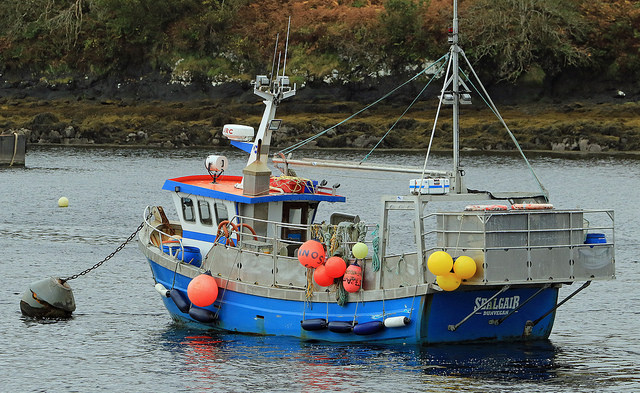fishing_boat: (140, 38, 612, 352)
